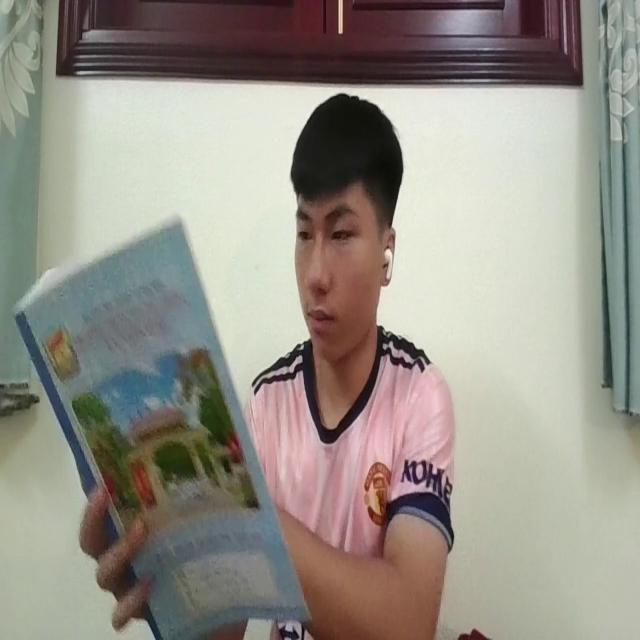book: (10, 213, 311, 633)
student: (236, 83, 457, 640)
